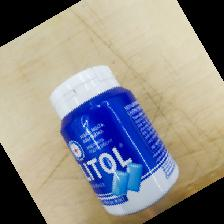Xylitol_blue: (50, 62, 179, 217)
